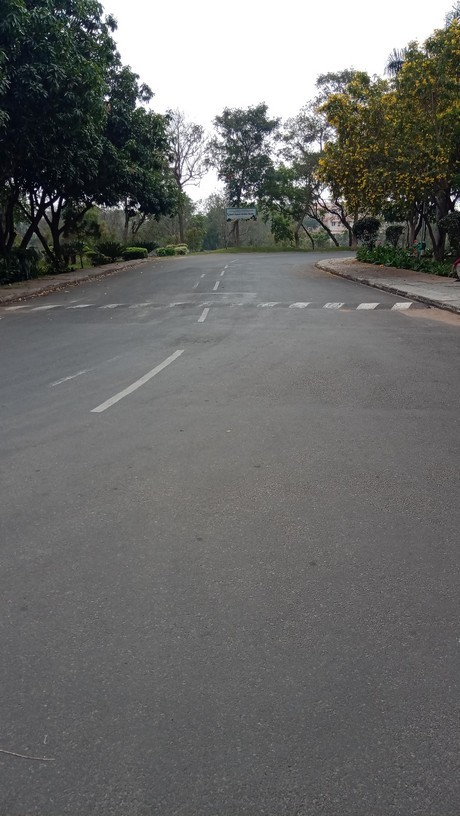bump: (1, 300, 430, 316)
